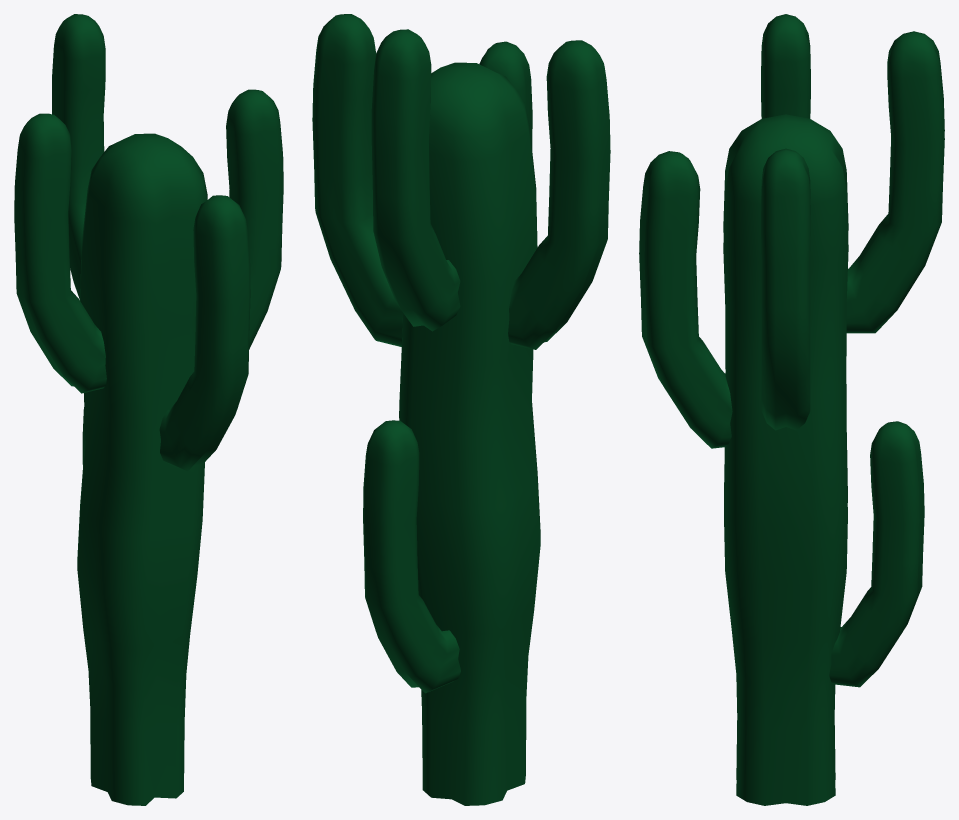
Rendered from Cactus_2.fbx.
3 views of the same model, side by side, from view 1: azimuth 30°, elevation 25°; view 2: azimuth 150°, elevation 25°; view 3: azimuth 270°, elevation 25° (orthographic). The views are drawn at different scales.
Parts seen in each view (by area): view 1: g_Cactus_2; view 2: g_Cactus_2; view 3: g_Cactus_2.
Part boxes in pixels (x1,y1,x2,y2): g_Cactus_2: (14,14,283,805); g_Cactus_2: (312,14,610,805); g_Cactus_2: (639,14,944,805).
Size of the model in its own units: 294 by 784 by 287.
